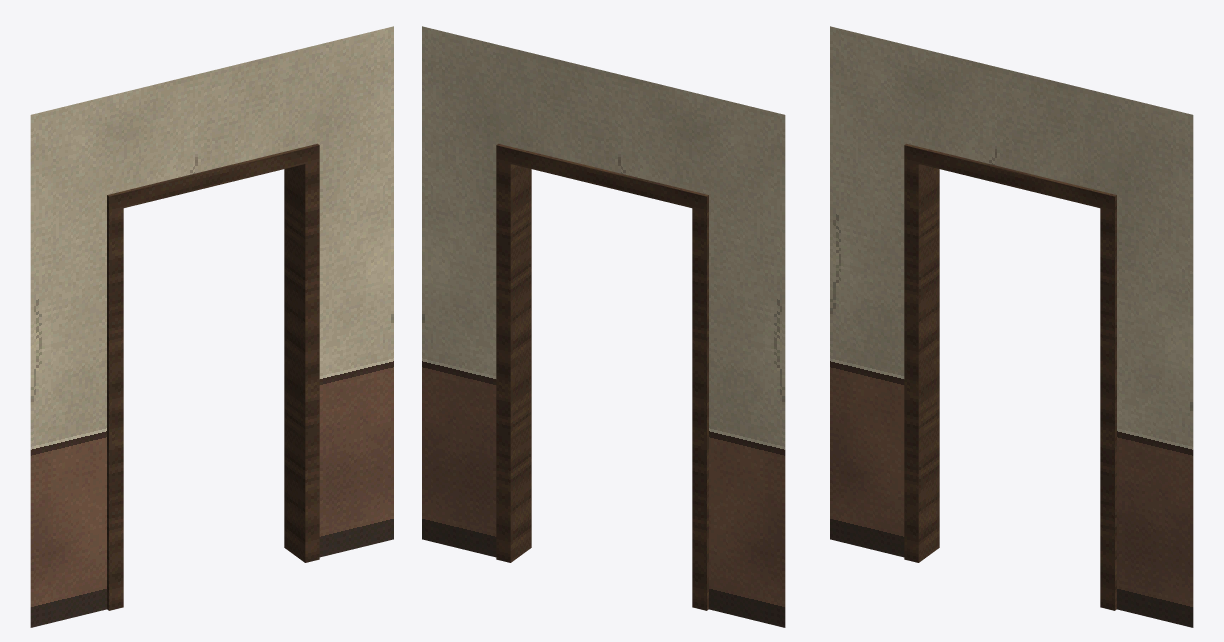
Rendered from int_door.gltf.
3 renders of one model, left to right at view 1: azimuth 30°, elevation 25°; view 2: azimuth 150°, elevation 25°; view 3: azimuth 330°, elevation 25°, orthographic.
Visible parts, largest first — view 1: int_door-col; view 2: int_door-col; view 3: int_door-col.
Part boxes in pixels (bbox=[...]): int_door-col: bbox=[30, 26, 393, 627]; int_door-col: bbox=[422, 26, 785, 627]; int_door-col: bbox=[830, 26, 1193, 627].
Bounding box in the file's own units: 2 × 2.7 × 0.2.
2 materials, 2 textured.
